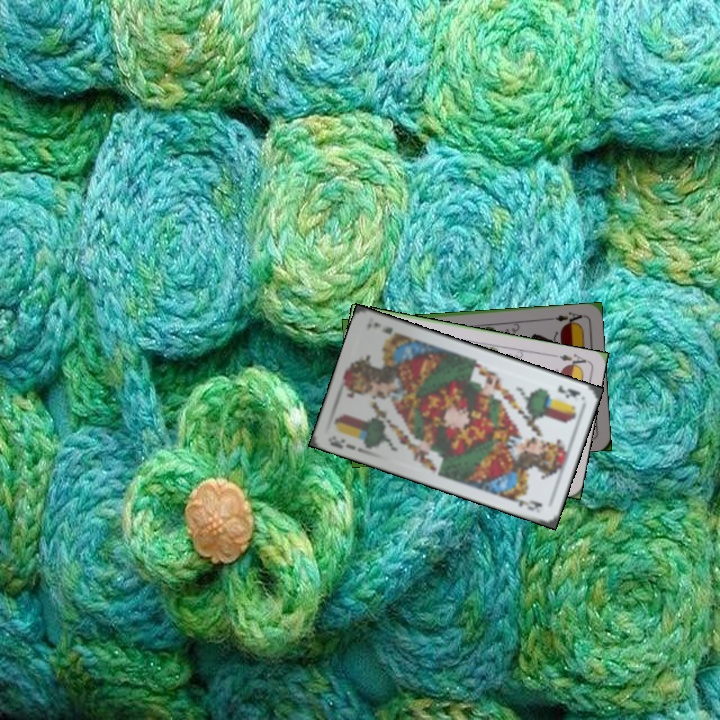EA: (549, 350, 590, 371), (546, 308, 586, 327)
EK: (325, 431, 358, 452), (554, 380, 582, 400)
